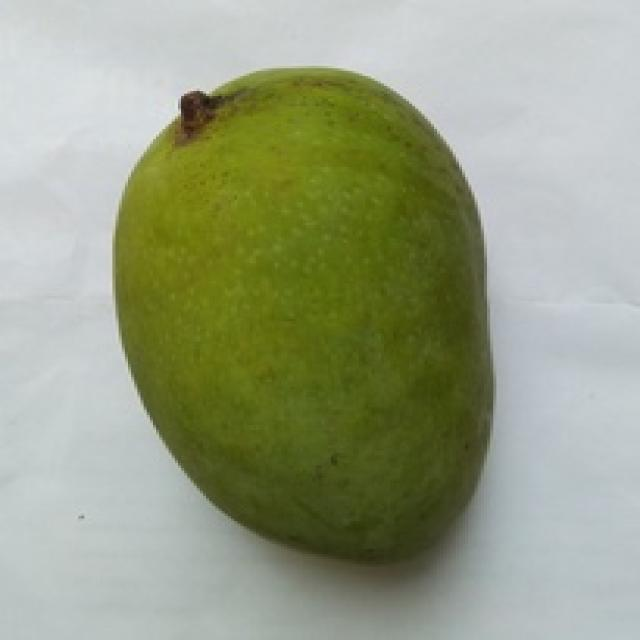Mango: (119, 71, 490, 557)
